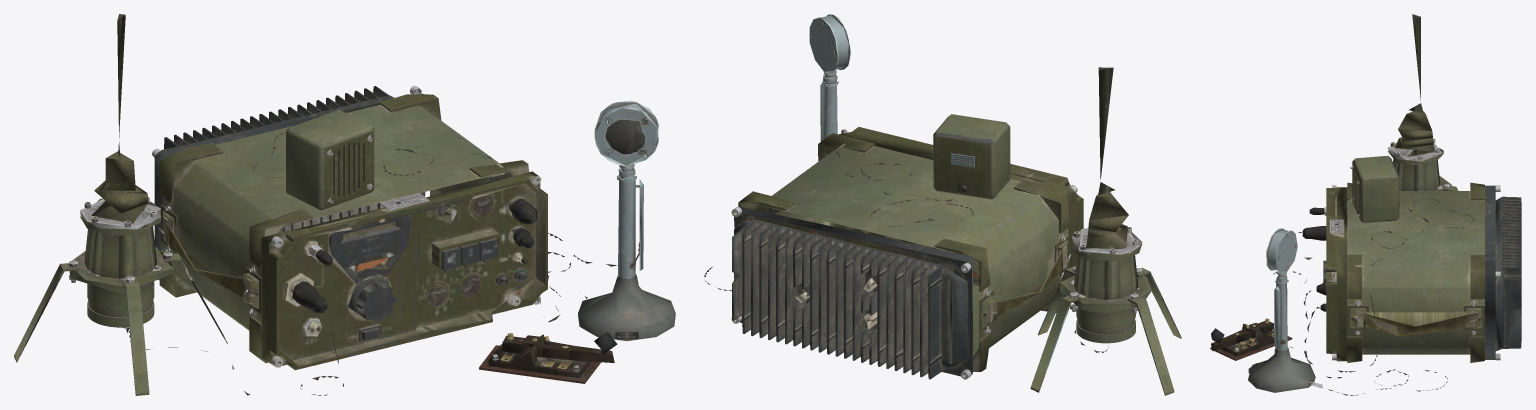
The model's file is vintage_radio_transceiver.gltf.
3 views of the same model, side by side, from view 1: azimuth 30°, elevation 25°; view 2: azimuth 150°, elevation 25°; view 3: azimuth 270°, elevation 25° (orthographic). The views are drawn at different scales.
Parts seen in each view (by area): view 1: vintage_radio_transceiver, vintage_radio_transceiver_antenna, vintage_radio_transceiver_microphone, vintage_radio_transceiver_speaker, vintage_radio_transceiver_morse_key_base, vintage_radio_transceiver_morse_key_arm, vintage_radio_transceiver_dial, vintage_radio_transceiver_antenna_plug_a, vintage_radio_transceiver_cables; view 2: vintage_radio_transceiver, vintage_radio_transceiver_antenna, vintage_radio_transceiver_speaker, vintage_radio_transceiver_microphone; view 3: vintage_radio_transceiver, vintage_radio_transceiver_microphone, vintage_radio_transceiver_antenna, vintage_radio_transceiver_speaker, vintage_radio_transceiver_morse_key_base, vintage_radio_transceiver_morse_key_arm, vintage_radio_transceiver_cables, vintage_radio_transceiver_antenna_plug_a.
Boxes of the visible parts, x1=… form: vintage_radio_transceiver: x1=152, y1=85, x2=547, y2=370; vintage_radio_transceiver_antenna: x1=14, y1=14, x2=227, y2=395; vintage_radio_transceiver_microphone: x1=578, y1=100, x2=675, y2=340; vintage_radio_transceiver_speaker: x1=286, y1=109, x2=374, y2=210; vintage_radio_transceiver_morse_key_base: x1=479, y1=334, x2=600, y2=383; vintage_radio_transceiver_morse_key_arm: x1=501, y1=332, x2=617, y2=362; vintage_radio_transceiver_dial: x1=348, y1=257, x2=396, y2=322; vintage_radio_transceiver_antenna_plug_a: x1=292, y1=281, x2=327, y2=312; vintage_radio_transceiver_cables: x1=128, y1=132, x2=617, y2=395; vintage_radio_transceiver: x1=731, y1=127, x2=1083, y2=379; vintage_radio_transceiver_antenna: x1=1030, y1=67, x2=1181, y2=395; vintage_radio_transceiver_speaker: x1=933, y1=114, x2=1010, y2=199; vintage_radio_transceiver_microphone: x1=809, y1=14, x2=850, y2=141; vintage_radio_transceiver: x1=1326, y1=182, x2=1521, y2=362; vintage_radio_transceiver_microphone: x1=1248, y1=228, x2=1322, y2=392; vintage_radio_transceiver_antenna: x1=1387, y1=14, x2=1458, y2=190; vintage_radio_transceiver_speaker: x1=1350, y1=155, x2=1399, y2=223; vintage_radio_transceiver_morse_key_base: x1=1210, y1=323, x2=1292, y2=360; vintage_radio_transceiver_morse_key_arm: x1=1211, y1=318, x2=1273, y2=351; vintage_radio_transceiver_cables: x1=1273, y1=198, x2=1473, y2=395; vintage_radio_transceiver_antenna_plug_a: x1=1302, y1=226, x2=1326, y2=240.
Bounding box in the file's own units: 0.574 × 0.3332 × 0.4102.
2 materials, 2 textured.
